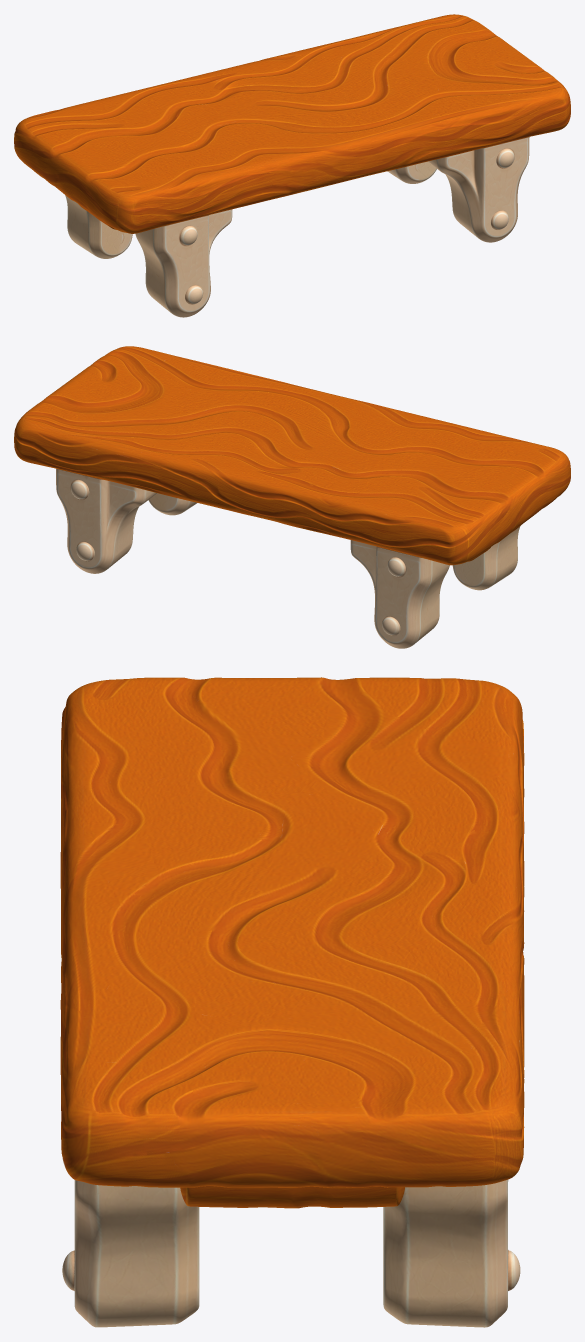
File: wooden_shelf_orig.glb
The picture shows the model from 3 angles, top to bottom: view 1: azimuth 30°, elevation 25°; view 2: azimuth 150°, elevation 25°; view 3: azimuth 270°, elevation 25°; orthographic projection. The views are drawn at different scales.
Bounding box in the file's own units: 1.9 × 0.549 × 0.8272.
1 material, 1 textured.
